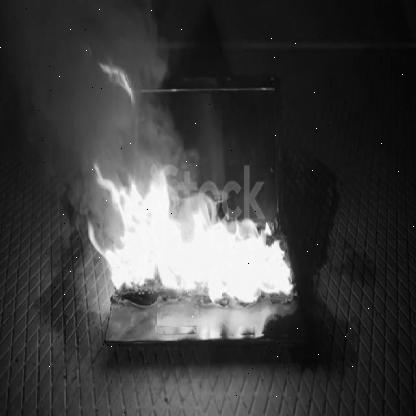fire: (84, 167, 299, 298)
smoke: (2, 9, 193, 206)
